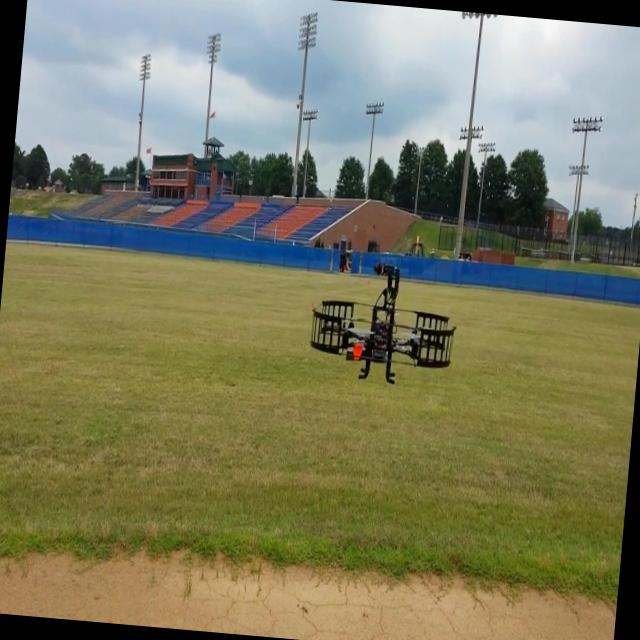drone: (300, 251, 460, 391)
